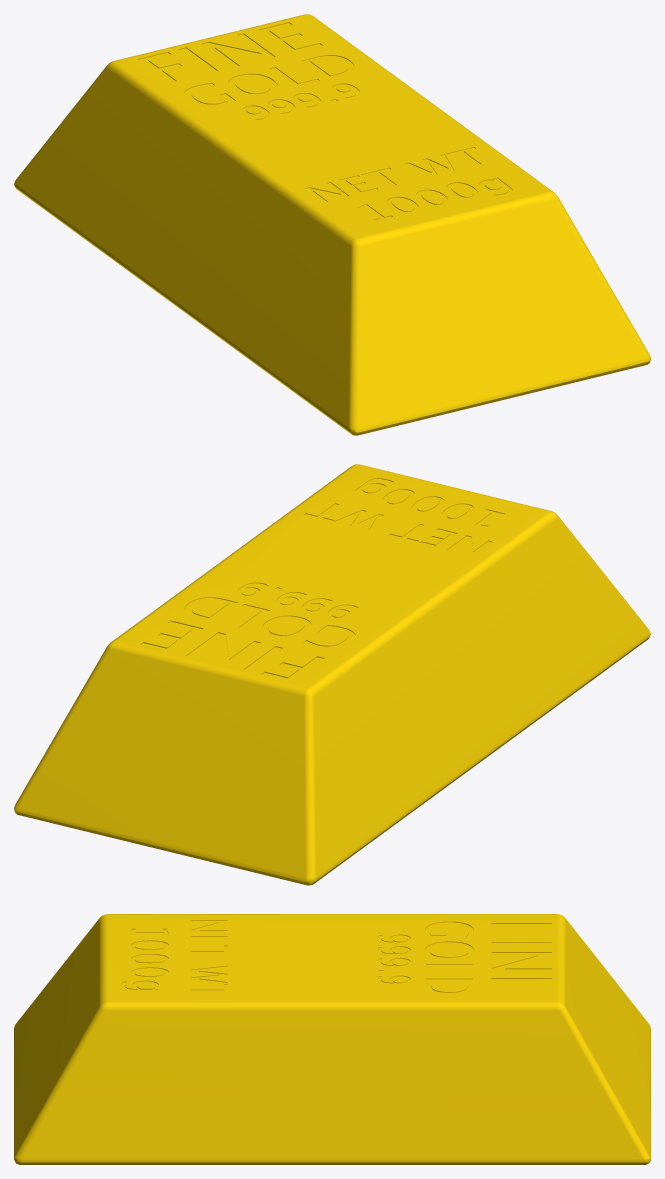
The model's file is gold4.glb.
3 renders of one model, top to bottom at view 1: azimuth 30°, elevation 25°; view 2: azimuth 150°, elevation 25°; view 3: azimuth 270°, elevation 25°, orthographic. The views are drawn at different scales.
Visible parts, largest first — view 1: pCube2; view 2: pCube2; view 3: pCube2.
Boxes of the visible parts, <box> form: pCube2: <box>14,14,650,435</box>; pCube2: <box>14,464,650,885</box>; pCube2: <box>14,914,650,1164</box>.
Bounding box in the file's own units: 0.0519 × 0.0249 × 0.1024.
